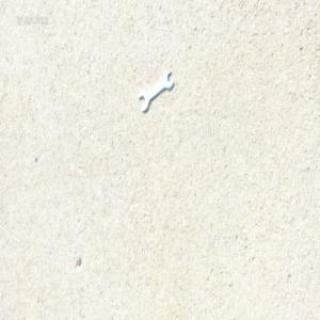Wrenchtrack_idkeyframe: (138, 71, 174, 112)
